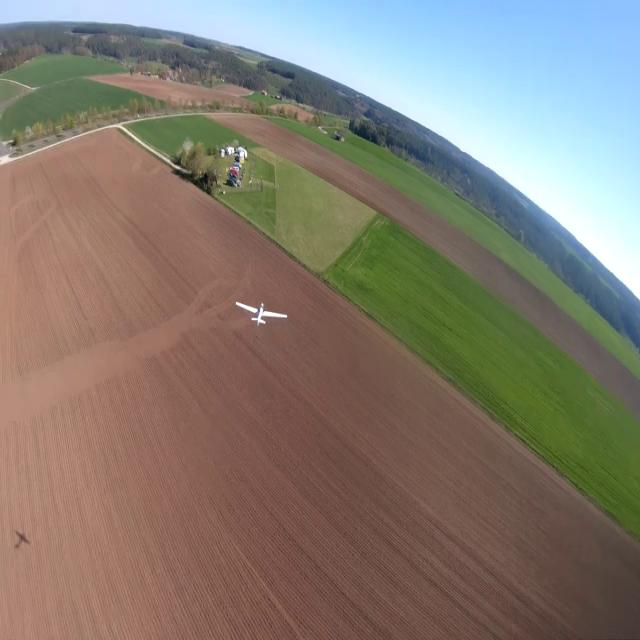iha: (234, 297, 288, 328)
